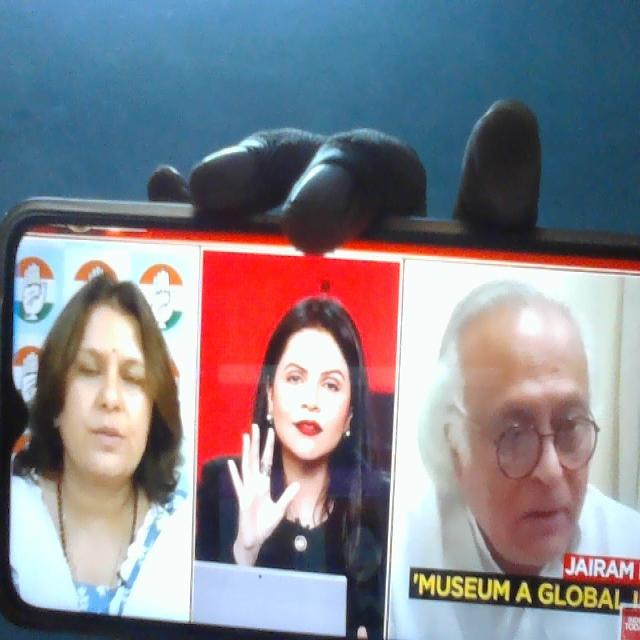fake: (446, 270, 611, 582), (50, 261, 166, 480), (264, 285, 373, 491)
